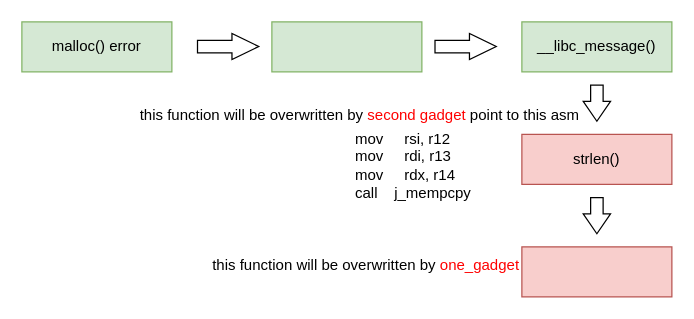
Image size: 694x319. Some labels were removed from this diagram. Here are the shapes that lost their labels. From the top down, the box of each, then its label:
(271, 21, 422, 72): malloc_printerr()
(521, 246, 672, 297): _memcpy()
